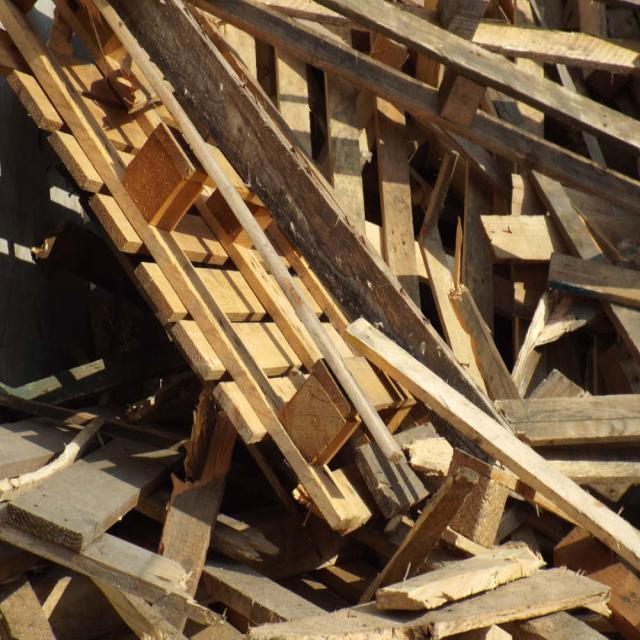green waste: (2, 1, 634, 638)
